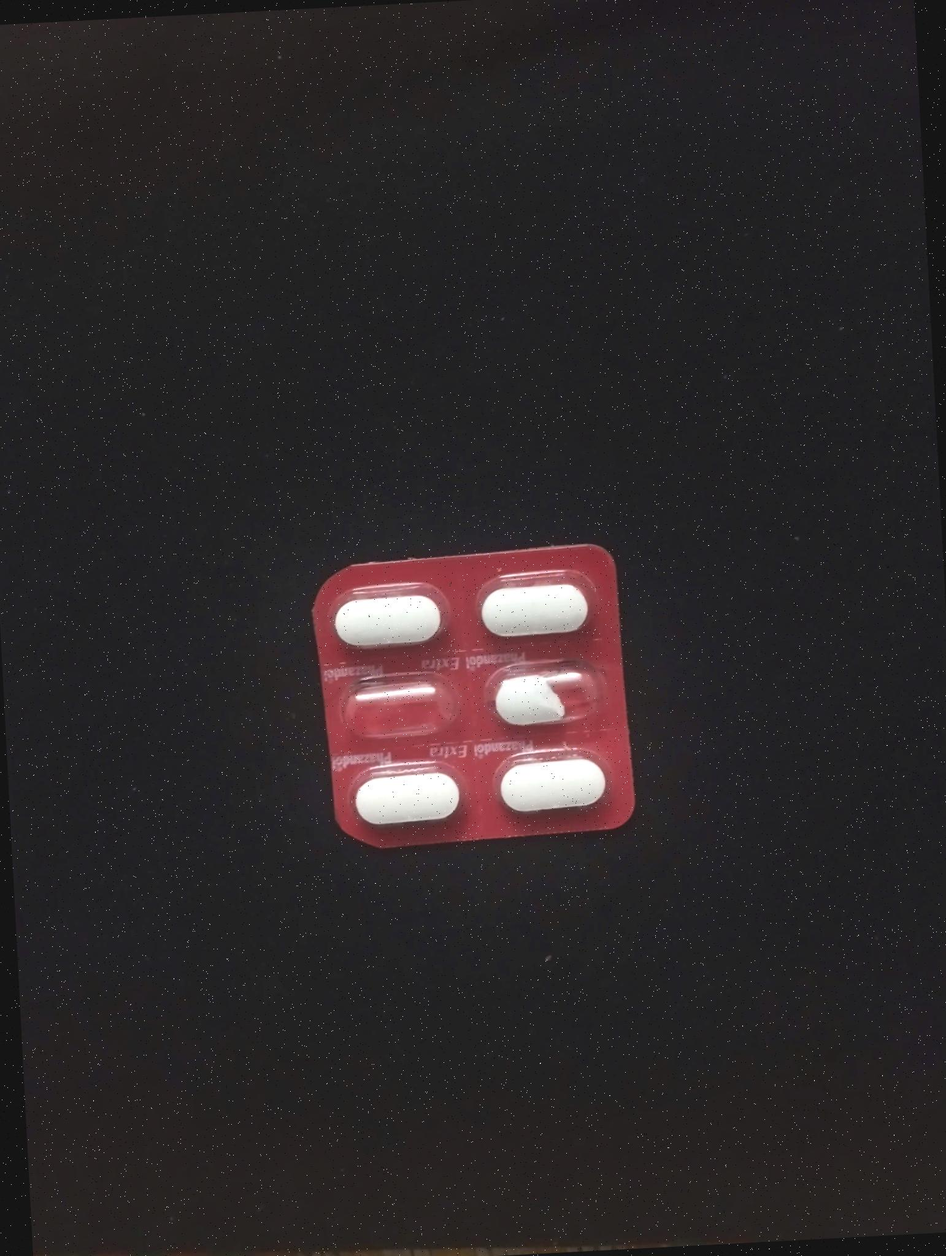Empty: (331, 673, 466, 749)
Full: (472, 578, 594, 651), (341, 762, 466, 833), (491, 751, 613, 823), (327, 581, 445, 651)
Partial: (480, 664, 604, 734)
